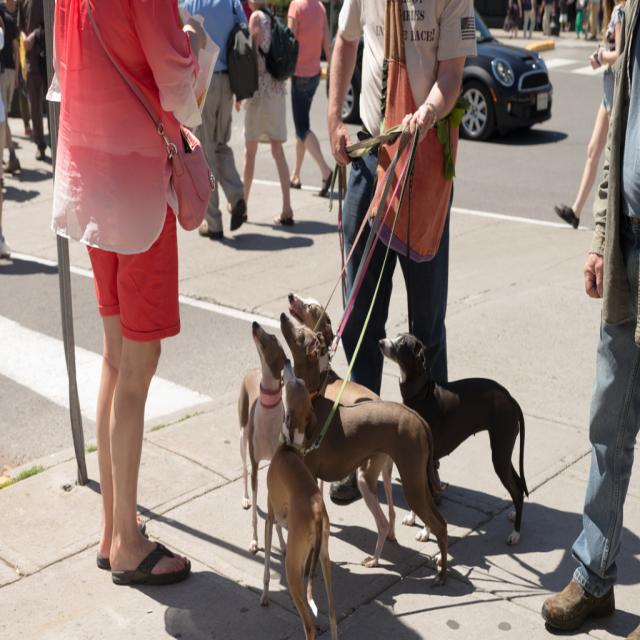Dog: (238, 291, 528, 639)
